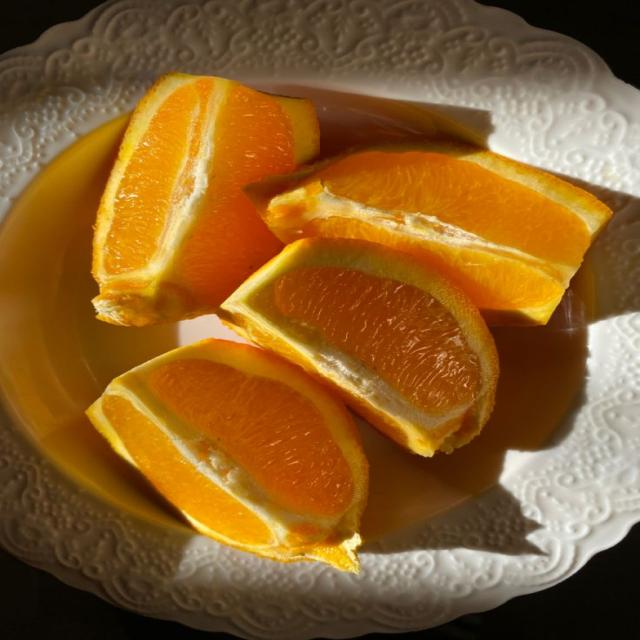orange: (247, 143, 611, 324), (87, 340, 367, 571), (219, 239, 498, 456), (93, 73, 319, 325)
